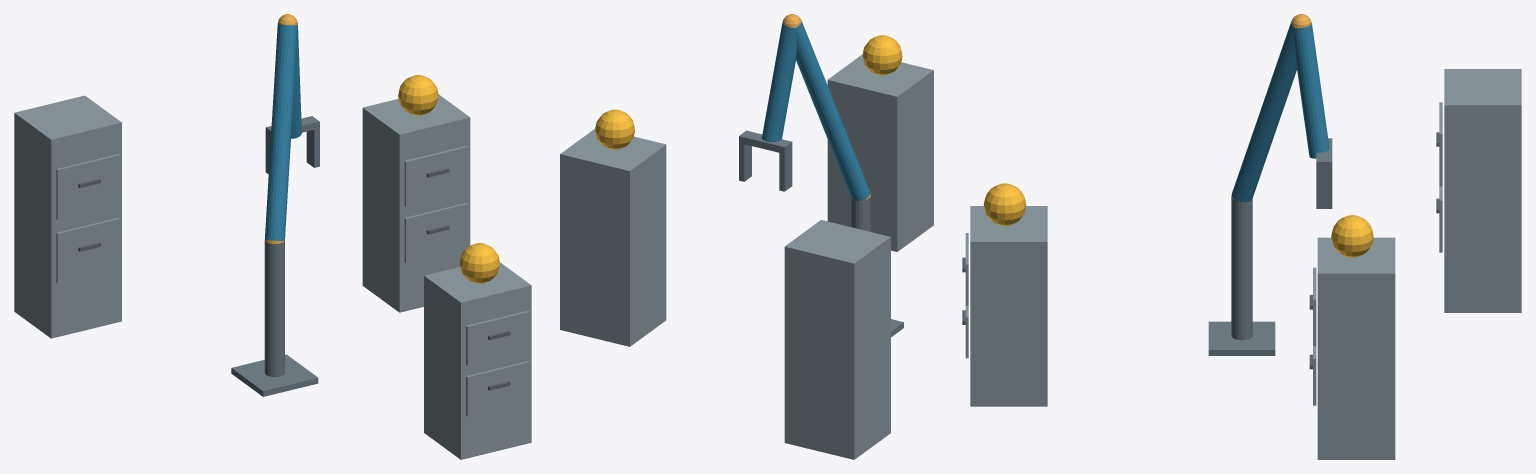
3 views of the same model, side by side, from view 1: azimuth 30°, elevation 25°; view 2: azimuth 150°, elevation 25°; view 3: azimuth 270°, elevation 25° (orthographic). The views are drawn at different scales.
Visible parts, largest first — view 1: cabinet_3 body, cabinet_2 body, cabinet_1 body, moving link 1, cabinet_3 drawer front.001, cabinet_3 drawer front, cabinet_2 drawer front.001, cabinet_2 drawer front, fixed post, cabinet_1 drawer front.001, cabinet_1 drawer front, pedestal (+3 smaller); view 2: cabinet_3 body, cabinet_2 body, cabinet_1 body, moving link 1, moving link 2, released ball_1, ball ball_2, gripper bridge, fixed post, gripper finger -1, gripper finger 1; view 3: cabinet_3 body, cabinet_2 body, cabinet_1 body, moving link 1, fixed post, moving link 2, pedestal, ball ball_2, released ball_1, gripper finger 1.
Boxes of the visible parts, x1,y1,x2,y2 form: cabinet_3 body: [14, 95, 121, 338]; cabinet_2 body: [362, 94, 470, 312]; cabinet_1 body: [424, 262, 531, 459]; moving link 1: [265, 23, 297, 240]; cabinet_3 drawer front.001: [56, 154, 119, 219]; cabinet_3 drawer front: [56, 217, 119, 283]; cabinet_2 drawer front.001: [404, 145, 468, 206]; cabinet_2 drawer front: [404, 202, 468, 263]; fixed post: [264, 239, 284, 376]; cabinet_1 drawer front.001: [466, 310, 529, 366]; cabinet_1 drawer front: [466, 361, 529, 416]; pedestal: [231, 354, 318, 396]; cabinet_3 body: [784, 220, 890, 459]; cabinet_2 body: [560, 128, 666, 346]; cabinet_1 body: [827, 54, 933, 251]; moving link 1: [795, 21, 870, 200]; moving link 2: [762, 22, 796, 142]; released ball_1: [862, 35, 902, 75]; ball ball_2: [595, 109, 634, 149]; gripper bridge: [739, 130, 792, 153]; fixed post: [851, 197, 870, 231]; gripper finger -1: [779, 149, 792, 191]; gripper finger 1: [739, 143, 751, 181]; cabinet_3 body: [1444, 69, 1521, 312]; cabinet_2 body: [1317, 237, 1395, 459]; cabinet_1 body: [970, 206, 1047, 406]; moving link 1: [1231, 21, 1296, 202]; fixed post: [1231, 197, 1252, 340]; moving link 2: [1294, 23, 1329, 158]; pedestal: [1208, 321, 1275, 355]; ball ball_2: [1331, 215, 1373, 257]; released ball_1: [983, 183, 1026, 225]; gripper finger 1: [1316, 169, 1332, 208].
Size of the model in its own units: 1.62 by 1.44 by 2.1.
